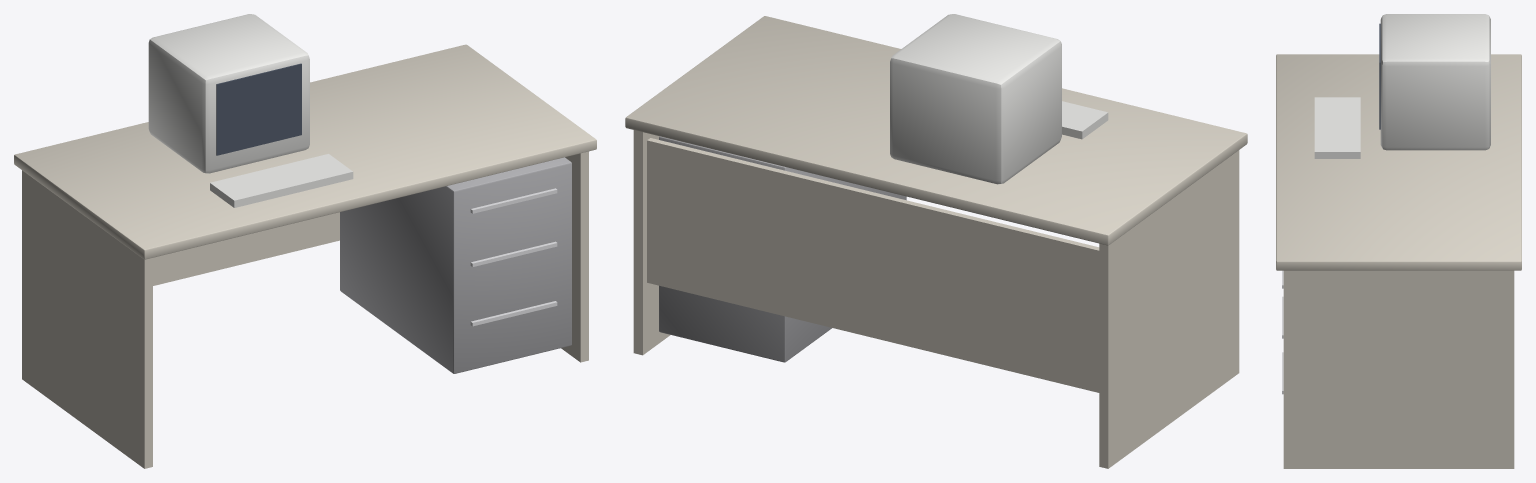
File: SM_Desk.fbx
The picture shows the model from 3 angles, left to right: view 1: azimuth 30°, elevation 25°; view 2: azimuth 150°, elevation 25°; view 3: azimuth 270°, elevation 25°; orthographic projection. The views are drawn at different scales.
Visible parts, largest first — view 1: SM_Desk; view 2: SM_Desk; view 3: SM_Desk.
Boxes of the visible parts, bbox=[...] form: SM_Desk: bbox=[14, 14, 596, 468]; SM_Desk: bbox=[625, 14, 1247, 468]; SM_Desk: bbox=[1276, 14, 1521, 468].
Bounding box in the file's own units: 160 × 110 × 80.
